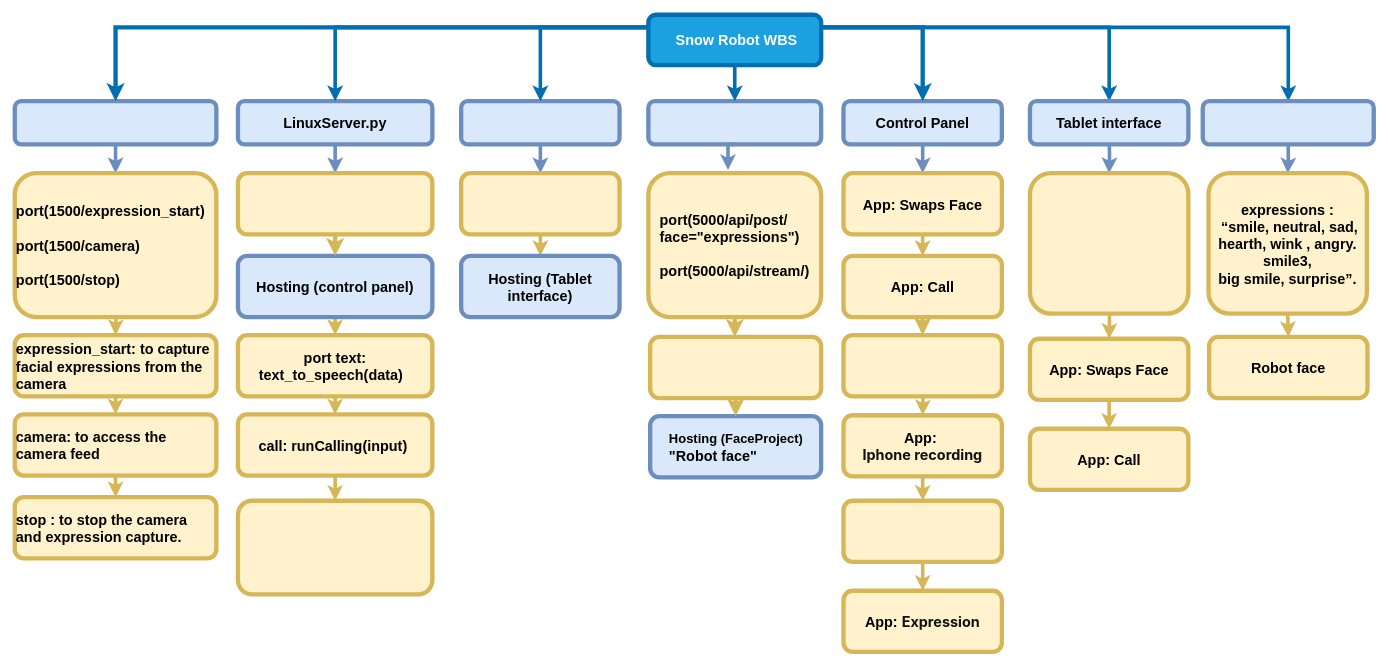
This 1388x666 diagram has some shape labels left out. The shapes that lost their labels are listed below. From the top down, each one's centre as x and y in pixels, then its label:
the point at 115,122: Camera_expression.py
the point at 540,122: Start_Tablet_html.py
the point at 734,122: RPiServer.py
the point at 1288,122: FaceProject
the point at 334,203: port(5100/api/post/call ) port(5100/api/post/text )
the point at 540,203: port(5500)
the point at 1108,243: Apps: CONTACT, ARCADA, SNOW, Techlabs
the point at 735,367: run FaceLibrary(script)
the point at 922,365: App: Text to speesh
the point at 334,547: run Chatbott(script) (listen_to_voice, get_askRobot, stopCall)
the point at 922,531: App: Camera
